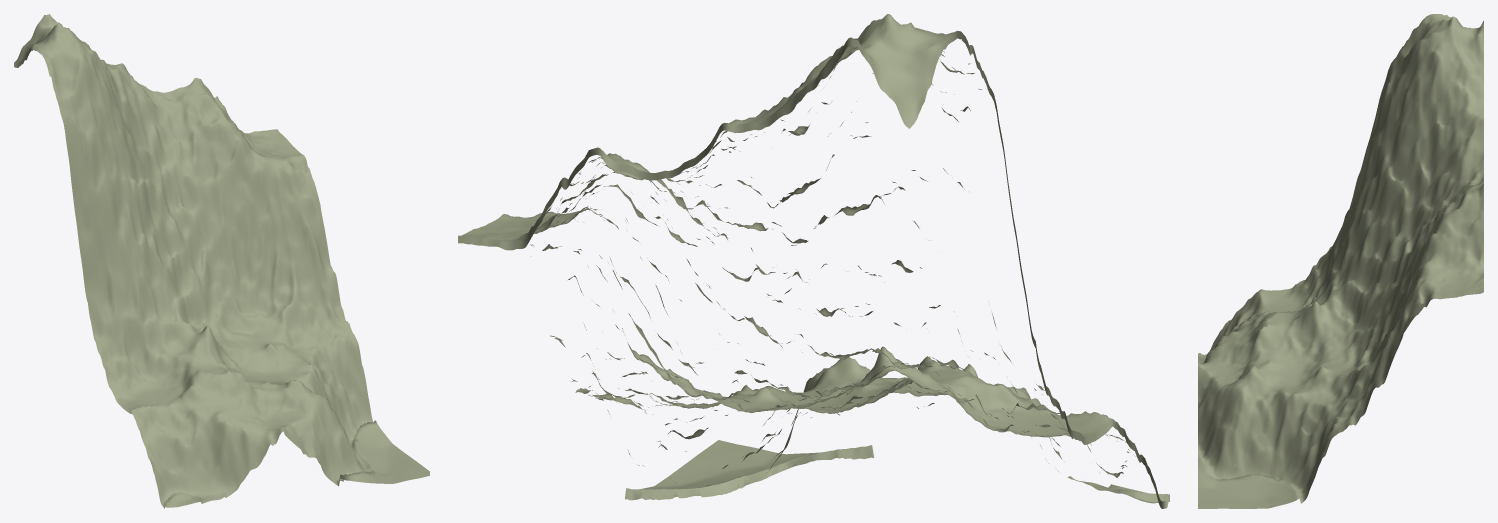
File: terrain_r3_c1_lod0.glb
3 views of the same model, side by side, from view 1: azimuth 30°, elevation 25°; view 2: azimuth 150°, elevation 25°; view 3: azimuth 270°, elevation 25° (orthographic). The views are drawn at different scales.
Parts seen in each view (by area): view 1: terrain_r3_c1; view 2: terrain_r3_c1; view 3: terrain_r3_c1.
Boxes of the visible parts, x1=… form: terrain_r3_c1: x1=14, y1=14, x2=429, y2=508; terrain_r3_c1: x1=458, y1=14, x2=1169, y2=508; terrain_r3_c1: x1=1198, y1=14, x2=1483, y2=508.
Bounding box in the file's own units: 50 × 74.34 × 50.
